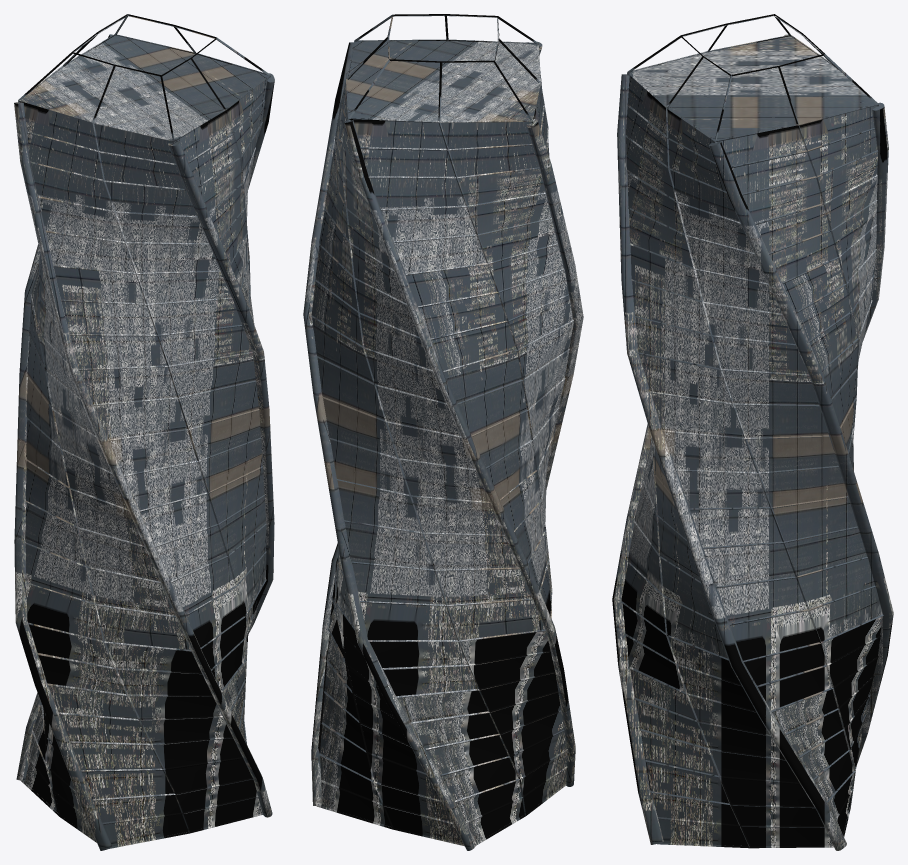
File: TwistedTower 2.fbx
3 views of the same model, side by side, from view 1: azimuth 30°, elevation 25°; view 2: azimuth 150°, elevation 25°; view 3: azimuth 270°, elevation 25° (orthographic).
Parts seen in each view (by area): view 1: Cube.004; view 2: Cube.004; view 3: Cube.004.
Boxes of the visible parts, x1,y1,x2,y2 form: Cube.004: (14, 14, 274, 850); Cube.004: (303, 14, 583, 850); Cube.004: (612, 14, 893, 850).
Size of the model in its own units: 135 by 407 by 136.
Materials: 1 (1 with a texture image).
